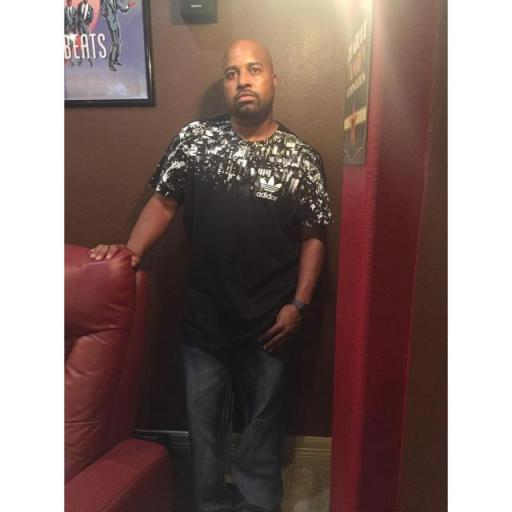Adidas: (254, 173, 284, 203)
